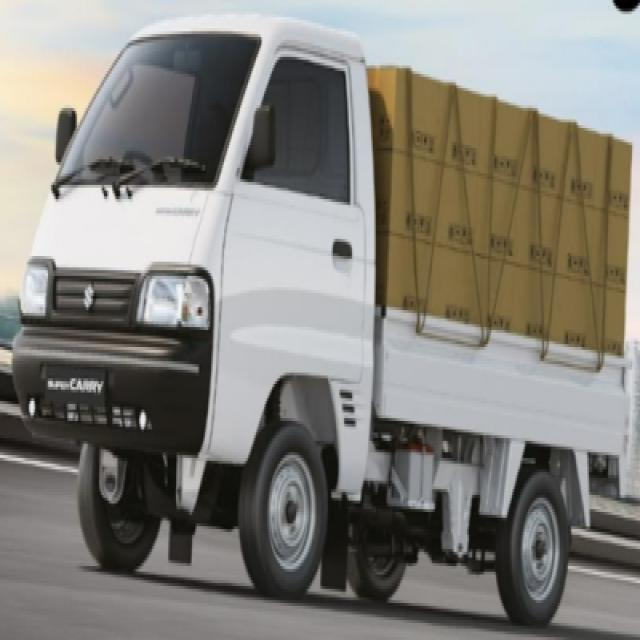truck: (14, 16, 629, 623)
